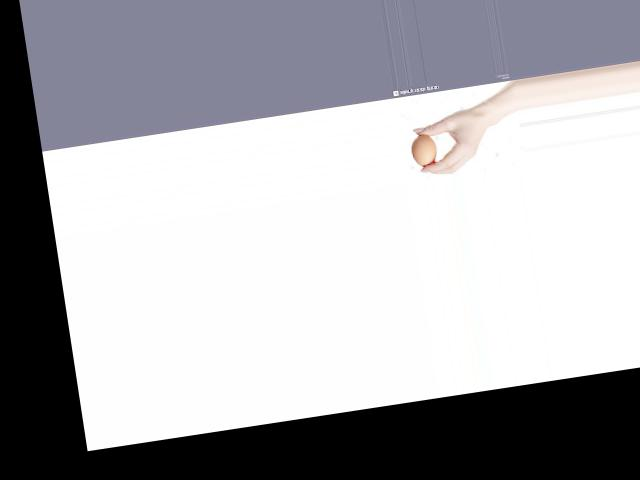egg: (409, 132, 440, 167)
